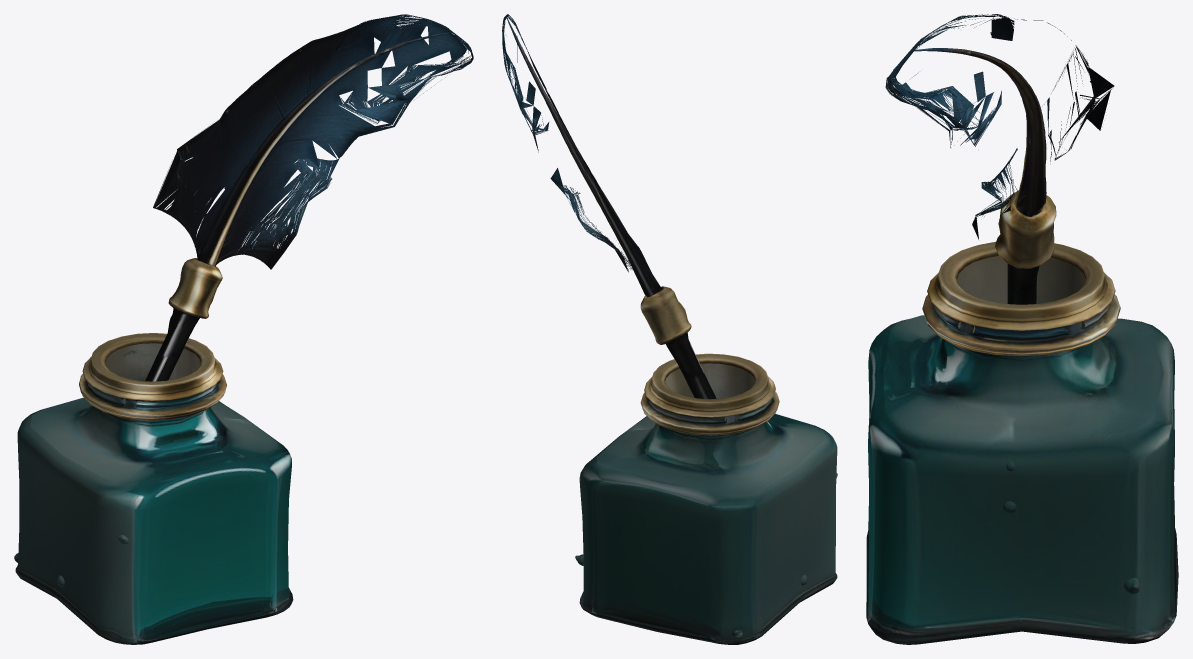
Rendered from ink-bottle.glb.
3 renders of one model, left to right at view 1: azimuth 30°, elevation 25°; view 2: azimuth 150°, elevation 25°; view 3: azimuth 270°, elevation 25°, orthographic. The views are drawn at different scales.
Parts seen in each view (by area): view 1: e7748e3a_922c_476e_acd8_84e64c748a4d; view 2: e7748e3a_922c_476e_acd8_84e64c748a4d; view 3: e7748e3a_922c_476e_acd8_84e64c748a4d.
Boxes of the visible parts, <box> form: e7748e3a_922c_476e_acd8_84e64c748a4d: <box>14,14,473,644</box>; e7748e3a_922c_476e_acd8_84e64c748a4d: <box>502,14,837,644</box>; e7748e3a_922c_476e_acd8_84e64c748a4d: <box>866,14,1178,644</box>.
Size of the model in its own units: 0.7124 by 0.9995 by 0.3892.
1 material, 1 textured.
